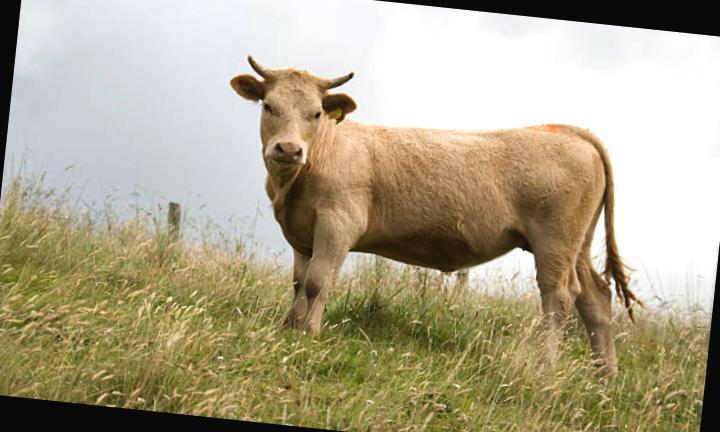Charolais: (230, 57, 636, 372)
